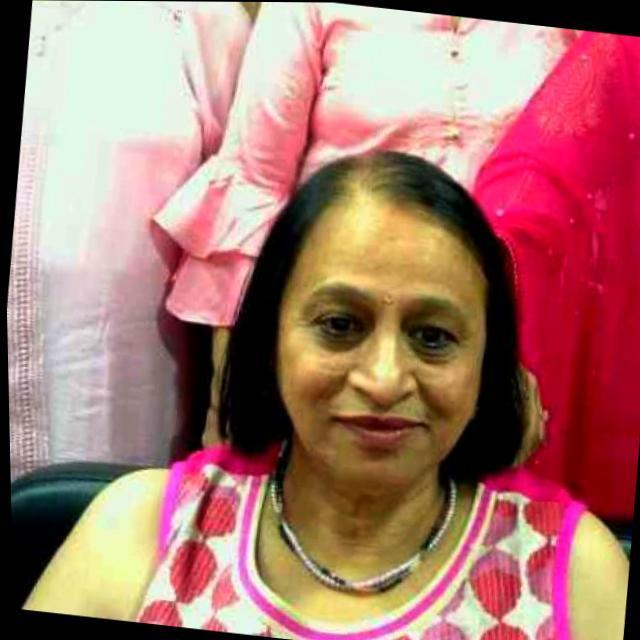puffy_eyes: (415, 354, 452, 363)
